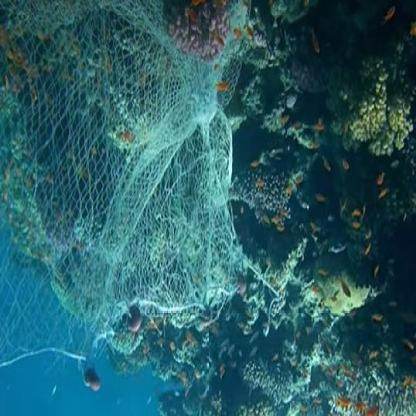net: (32, 12, 236, 344)
